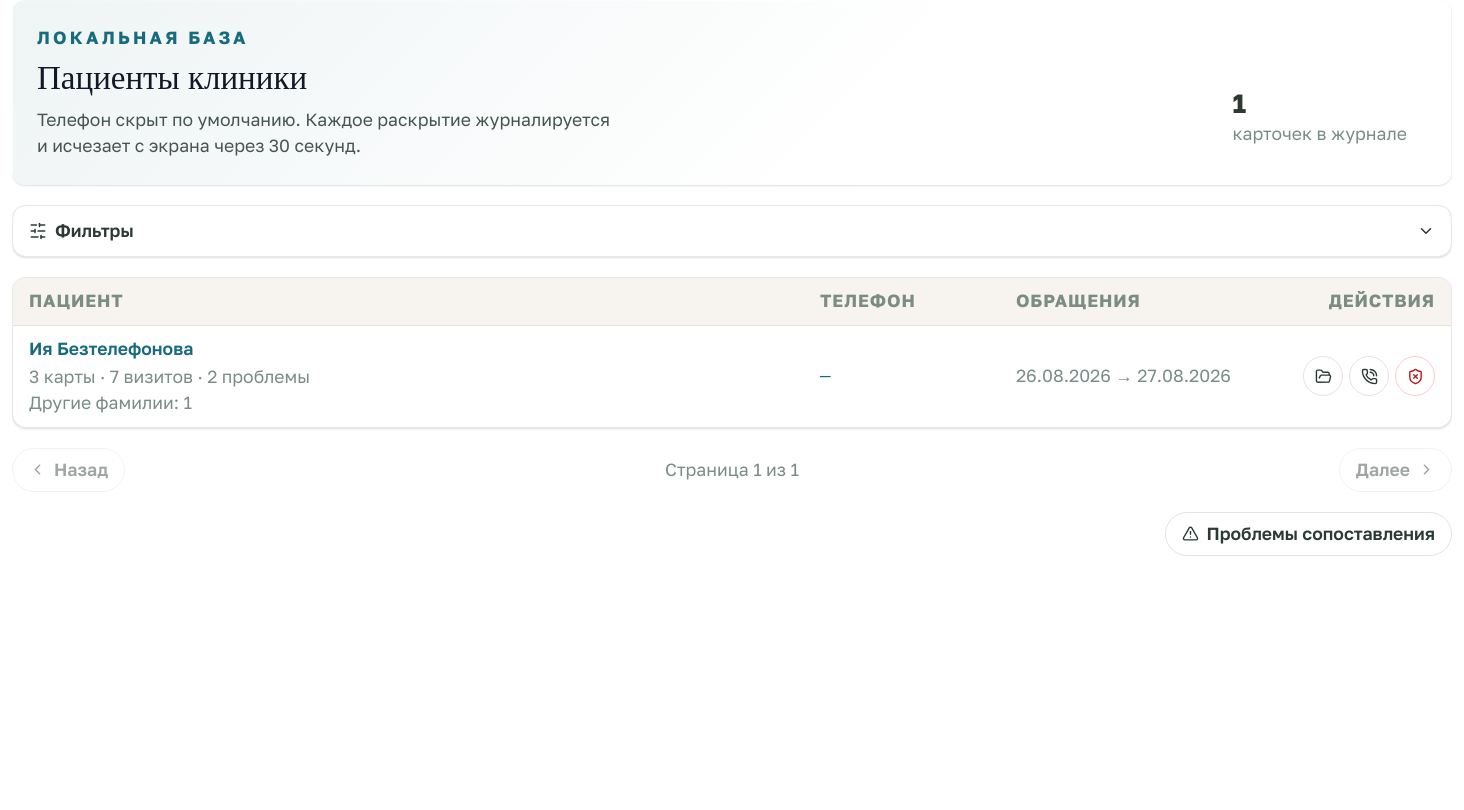
Patients admin view › keeps detail access without offering phone reveal when an active patient has no phone
This screenshot has width=1464, height=810.
Expected: the link "Ия Безтелефонова" is shown, top-left (29, 338), bottom-right (193, 359)
Click the button named "Открыть карточку Ия Безтелефонова": (1323, 376) top-left (1303, 356), bottom-right (1343, 396)
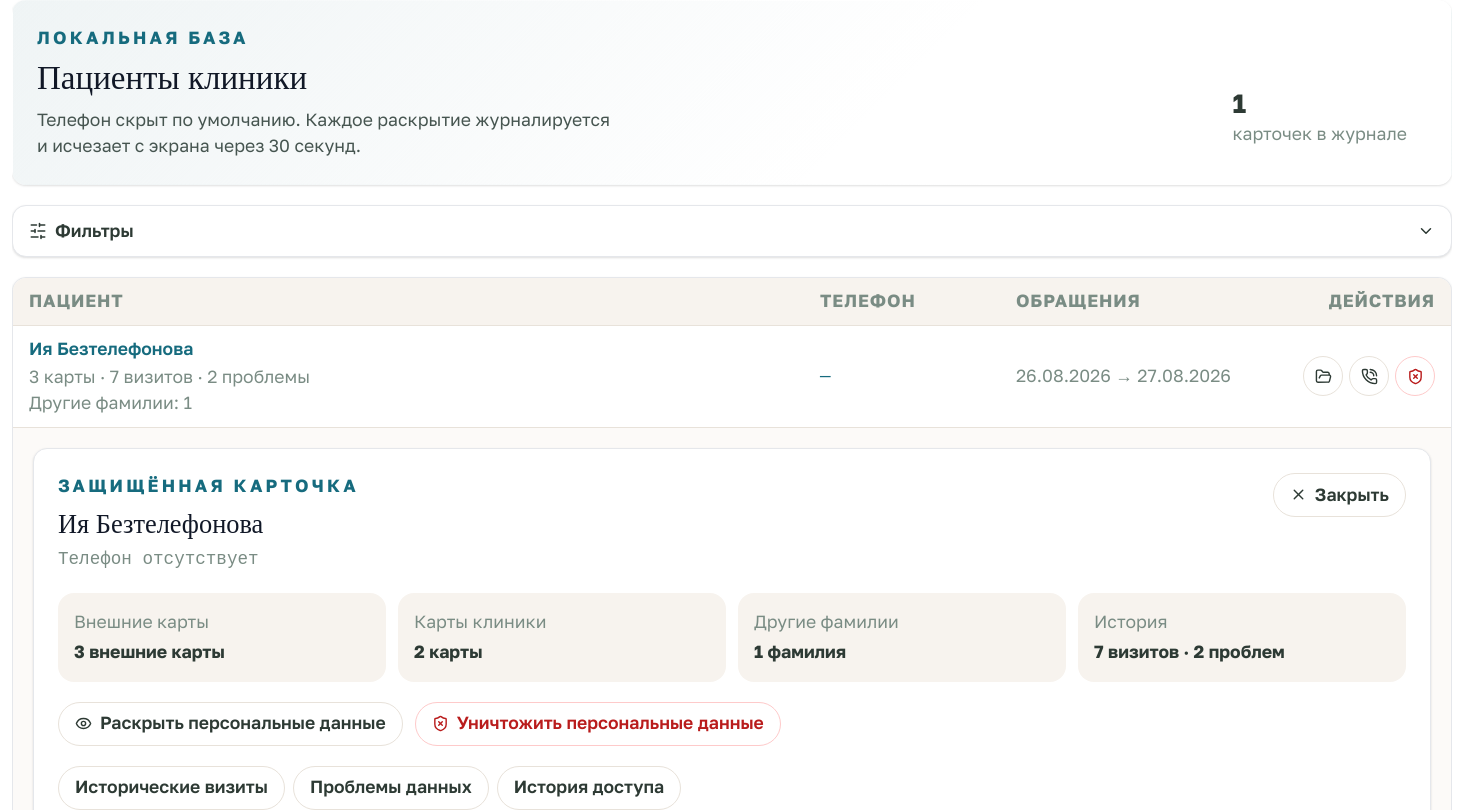
Now the button "Раскрыть персональные данные" is shown, box top-left (58, 702), bottom-right (403, 746)
